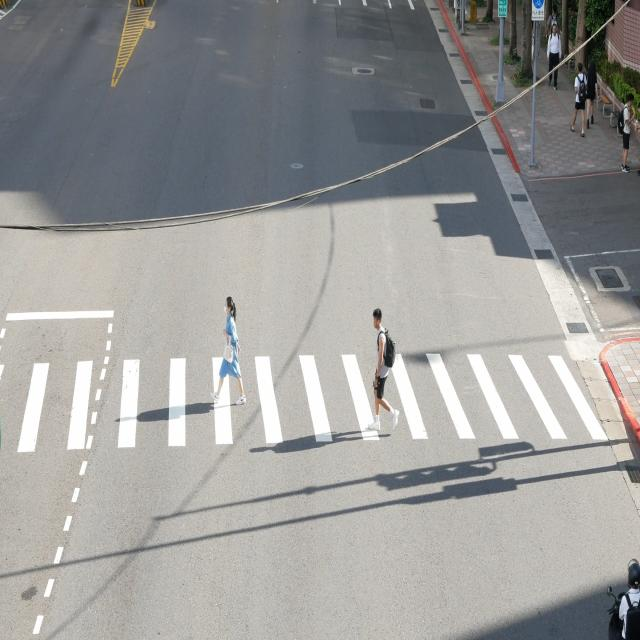pedestrian: (367, 310, 399, 430), (211, 296, 246, 404)
